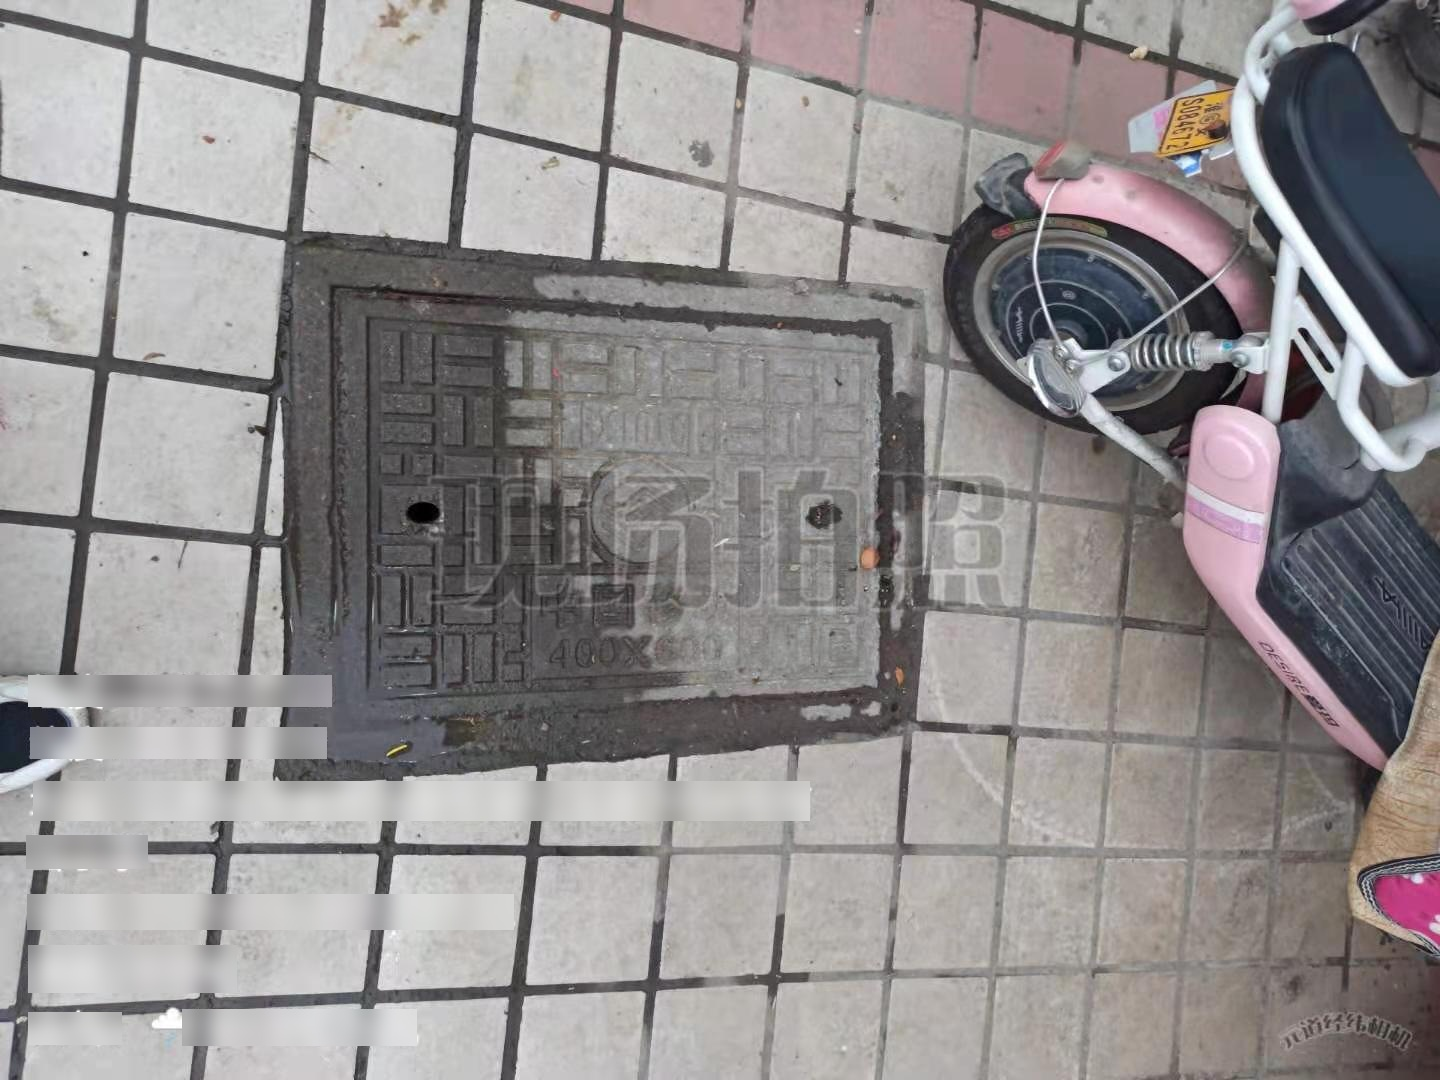good: (288, 246, 917, 748)
